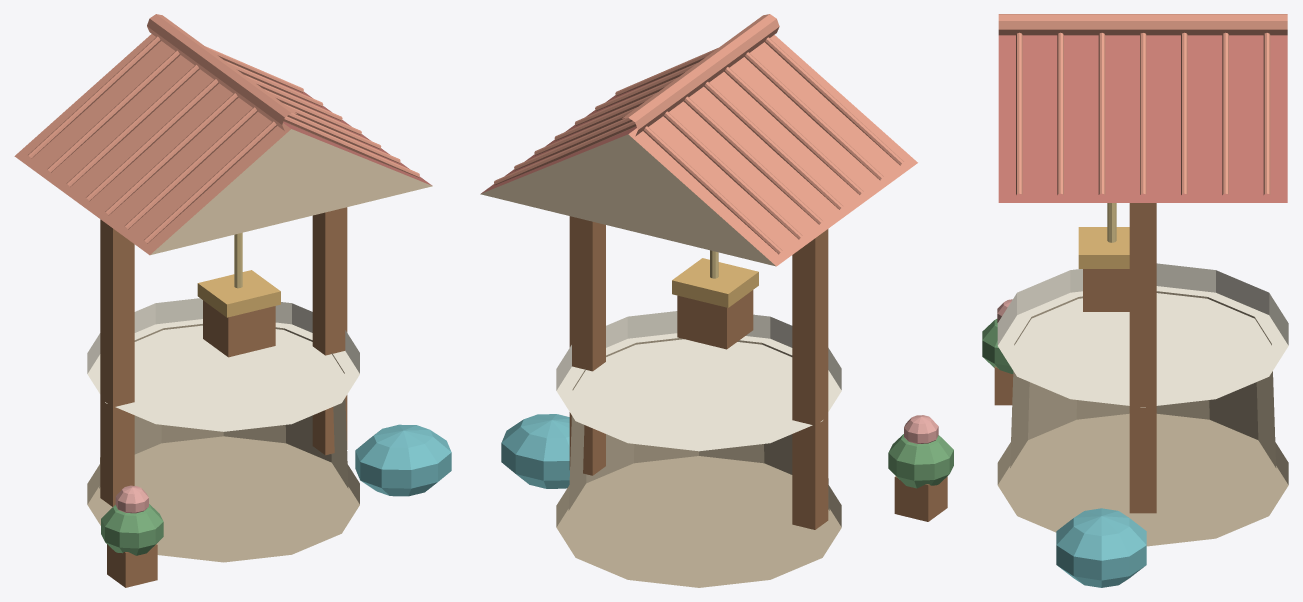
Rendered from well.glb.
3 views of the same model, side by side, from view 1: azimuth 30°, elevation 25°; view 2: azimuth 150°, elevation 25°; view 3: azimuth 270°, elevation 25° (orthographic). The views are drawn at different scales.
Parts seen in each view (by area): view 1: miniature-roof-left, ring-of-stone, cream-ring-rim, miniature-roof-front-gable, timber-support--0.63, timber-support-0.63, stone-well-plinth, blue-wash-basin, miniature-roof-ridge, wooden-bucket, bucket-rim, waterside-pot-leaf (+12 smaller); view 2: miniature-roof-left, cream-ring-rim, ring-of-stone, miniature-roof-back-gable, timber-support--0.63, stone-well-plinth, timber-support-0.63, blue-wash-basin, miniature-roof-ridge, wooden-bucket, bucket-rim, waterside-pot-leaf (+13 smaller); view 3: miniature-roof-right, ring-of-stone, cream-ring-rim, timber-support-0.63, miniature-roof-ridge, stone-well-plinth, blue-wash-basin, bucket-rim, wooden-bucket, miniature-roof-tile-1-0, miniature-roof-tile-1-4, miniature-roof-tile-1-1 (+6 smaller).
Boxes of the visible parts, <box> form: miniature-roof-left: <box>14,34,290,255</box>; ring-of-stone: <box>99,324,348,541</box>; cream-ring-rim: <box>87,298,359,431</box>; miniature-roof-front-gable: <box>150,129,432,255</box>; timber-support--0.63: <box>100,219,134,506</box>; timber-support-0.63: <box>312,207,347,455</box>; stone-well-plinth: <box>87,464,359,562</box>; blue-wash-basin: <box>355,424,451,496</box>; miniature-roof-ridge: <box>147,14,297,130</box>; wooden-bucket: <box>203,300,275,357</box>; bucket-rim: <box>197,270,280,317</box>; waterside-pot-leaf: <box>101,504,163,555</box>; miniature-roof-left: <box>628,35,917,266</box>; cream-ring-rim: <box>556,311,841,451</box>; ring-of-stone: <box>568,338,829,565</box>; miniature-roof-back-gable: <box>480,134,775,266</box>; timber-support--0.63: <box>792,229,828,529</box>; stone-well-plinth: <box>556,485,841,587</box>; timber-support-0.63: <box>569,216,605,475</box>; blue-wash-basin: <box>501,414,569,488</box>; miniature-roof-ridge: <box>622,14,779,136</box>; wooden-bucket: <box>677,290,753,349</box>; bucket-rim: <box>672,258,758,307</box>; waterside-pot-leaf: <box>888,434,953,488</box>; miniature-roof-right: <box>998,35,1287,202</box>; ring-of-stone: <box>1010,291,1276,524</box>; cream-ring-rim: <box>997,263,1288,407</box>; timber-support-0.63: <box>1129,203,1156,513</box>; miniature-roof-ridge: <box>998,14,1287,35</box>; stone-well-plinth: <box>997,442,1288,546</box>; blue-wash-basin: <box>1056,508,1146,587</box>; bucket-rim: <box>1078,227,1129,268</box>; wooden-bucket: <box>1083,269,1129,311</box>; miniature-roof-tile-1-0: <box>1263,33,1270,194</box>; miniature-roof-tile-1-4: <box>1098,33,1105,194</box>; miniature-roof-tile-1-1: <box>1222,32,1228,194</box>.
Size of the model in its own units: 2.27 by 2.56 by 1.47.
